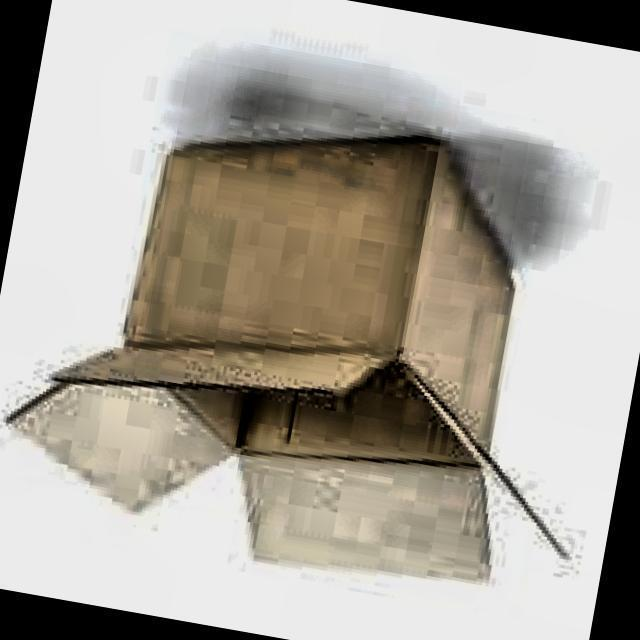cardboard: (0, 76, 635, 621)
